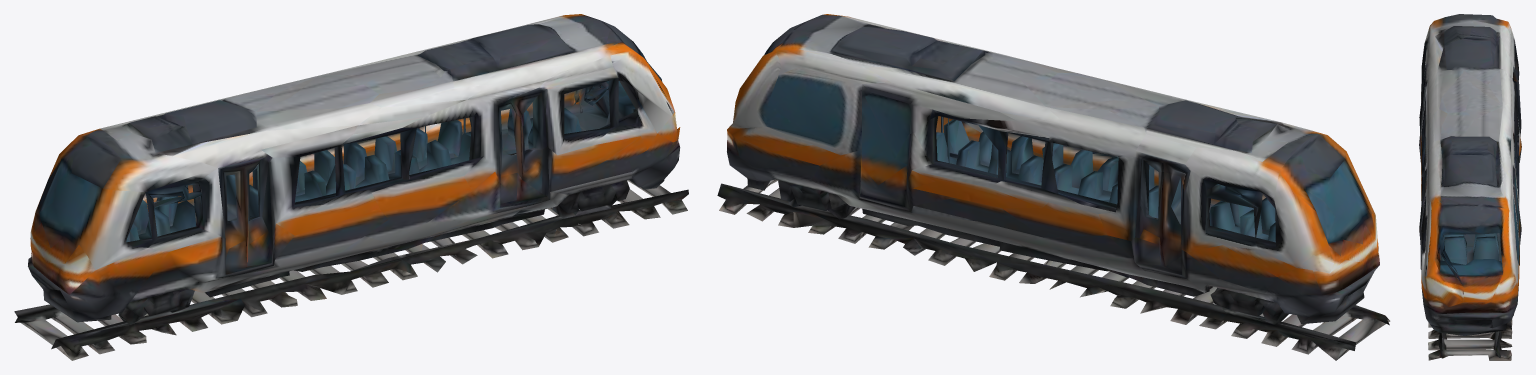
Rendered from metro-train.glb.
The picture shows the model from 3 angles, left to right: view 1: azimuth 30°, elevation 25°; view 2: azimuth 150°, elevation 25°; view 3: azimuth 270°, elevation 25°; orthographic projection. The views are drawn at different scales.
Visible parts, largest first — view 1: metro-train; view 2: metro-train; view 3: metro-train.
Boxes of the visible parts, box(x1,y1,x2,y2) form: metro-train: box(14, 14, 688, 360); metro-train: box(717, 14, 1390, 360); metro-train: box(1419, 14, 1521, 360).
Size of the model in its own units: 13.53 by 3.8 by 2.49.
1 material, 1 textured.
